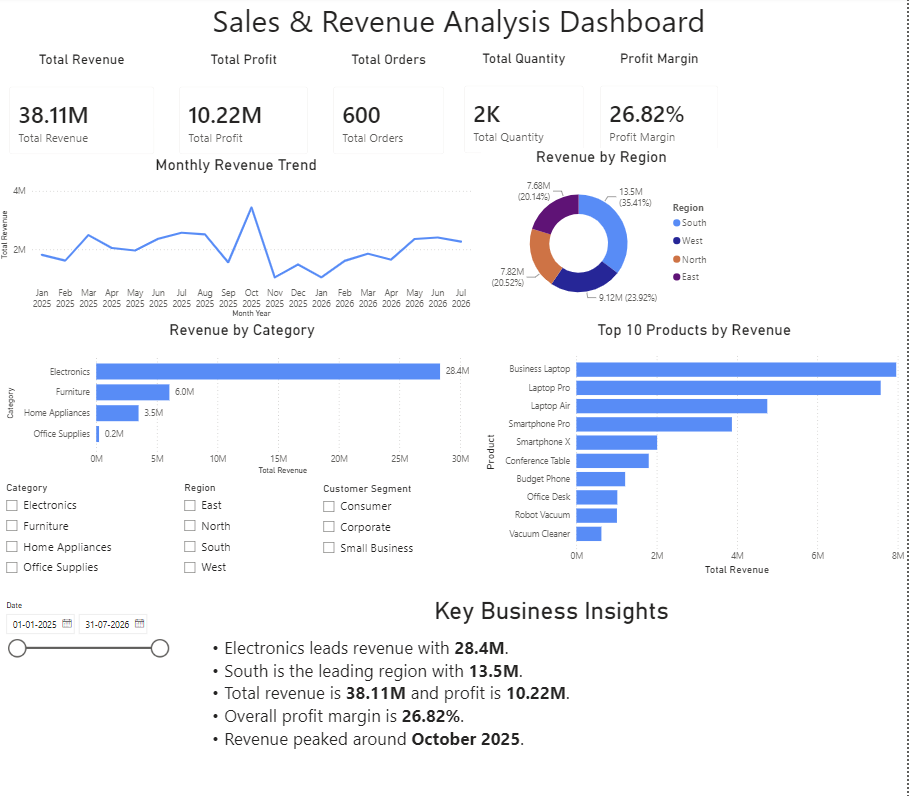

The dashboard page shown, as its layout file describes it:
{"tool":"powerbi","page":{"name":"Page 1","canvas":[1280,1200],"ordinal":0},"visuals":[{"type":"cardVisual","title":"Total Revenue","fields":{"Data":["DateTable.Total Revenue"]},"box":[0,75.9,238.3,162.4],"z":0},{"type":"cardVisual","title":"Total Profit","fields":{"Data":["DateTable.Total Profit"]},"box":[238.9,75.9,215.9,162.4],"z":1000},{"type":"cardVisual","title":"Total Quantity","fields":{"Data":["DateTable.Total Quantity"]},"box":[639.3,74.5,202.3,162.4],"z":2000},{"type":"cardVisual","title":"Total Orders","fields":{"Data":["DateTable.Total Orders"]},"box":[455.3,75.9,190,162],"z":3000},{"type":"cardVisual","title":"Profit Margin","fields":{"Data":["DateTable.Profit Margin"]},"box":[830.4,74.5,200.4,162.4],"z":4000},{"type":"textbox","box":[18.3,-1.4,1261.8,75.9],"z":5000},{"type":"lineChart","title":"Monthly Revenue Trend","fields":{"Category":["DateTable.Month Year"],"Y":["DateTable.Total Revenue"]},"box":[0,223.4,672.1,232.5],"z":5001},{"type":"clusteredBarChart","title":"Revenue by Category","fields":{"Category":["Sales_Data.Category"],"Y":["DateTable.Total Revenue"]},"box":[8.4,455.3,672.1,220.8],"z":5002},{"type":"clusteredBarChart","title":"Top 10 Products by Revenue","fields":{"Category":["Sales_Data.Product"],"Y":["DateTable.Total Revenue"]},"box":[680.1,455.3,599.5,361.8],"z":5003},{"type":"donutChart","title":"Revenue by Region","fields":{"Y":["DateTable.Total Revenue"],"Category":["Sales_Data.Region"]},"box":[680.1,212.2,338.4,233],"z":5004},{"type":"slicer","fields":{"Values":["Sales_Data.Category"]},"box":[0,675.9,250,146.9],"z":5005},{"type":"slicer","fields":{"Values":["Sales_Data.Region"]},"box":[250.1,675.9,250,147.8],"z":5006},{"type":"slicer","fields":{"Values":["Sales_Data.Customer_Segment"]},"box":[445.4,677.3,260,146.1],"z":5007},{"type":"slicer","fields":{"Values":["DateTable.Date"]},"box":[0,843.1,250,98.2],"z":5008},{"type":"textbox","title":"Key Business Insights","box":[278.2,843.1,1001.9,236.1],"z":5009}]}

Visuals, with their boxes on the page's 1280x1200 design canvas (x1, y1, x2, y2). These are canvas units, not pixel positions in the 910x796 screenshot, which may show the page scaled, cropped or inside an application window:
"Total Revenue" cardVisual: {"x1": 0, "y1": 76, "x2": 238, "y2": 238}
"Total Profit" cardVisual: {"x1": 239, "y1": 76, "x2": 455, "y2": 238}
"Total Quantity" cardVisual: {"x1": 639, "y1": 74, "x2": 842, "y2": 237}
"Total Orders" cardVisual: {"x1": 455, "y1": 76, "x2": 645, "y2": 238}
"Profit Margin" cardVisual: {"x1": 830, "y1": 74, "x2": 1031, "y2": 237}
textbox: {"x1": 18, "y1": -1, "x2": 1280, "y2": 74}
"Monthly Revenue Trend" lineChart: {"x1": 0, "y1": 223, "x2": 672, "y2": 456}
"Revenue by Category" clusteredBarChart: {"x1": 8, "y1": 455, "x2": 680, "y2": 676}
"Top 10 Products by Revenue" clusteredBarChart: {"x1": 680, "y1": 455, "x2": 1280, "y2": 817}
"Revenue by Region" donutChart: {"x1": 680, "y1": 212, "x2": 1018, "y2": 445}
slicer - Sales_Data.Category: {"x1": 0, "y1": 676, "x2": 250, "y2": 823}
slicer - Sales_Data.Region: {"x1": 250, "y1": 676, "x2": 500, "y2": 824}
slicer - Sales_Data.Customer_Segment: {"x1": 445, "y1": 677, "x2": 705, "y2": 823}
slicer - DateTable.Date: {"x1": 0, "y1": 843, "x2": 250, "y2": 941}
"Key Business Insights" textbox: {"x1": 278, "y1": 843, "x2": 1280, "y2": 1079}
